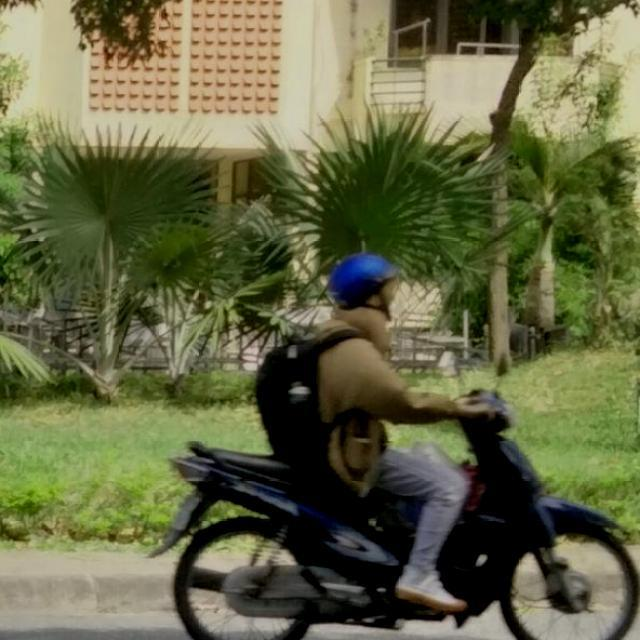Helmet: (326, 251, 400, 328)
